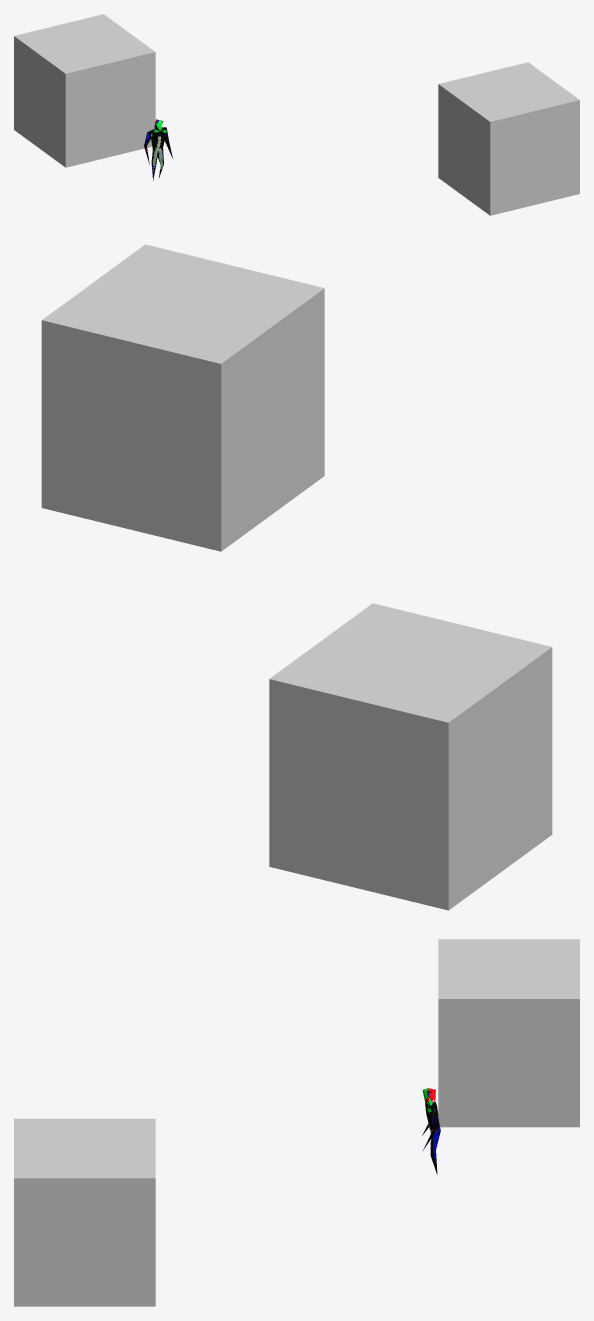
File: bigshitter.gltf
3 renders of one model, top to bottom at view 1: azimuth 30°, elevation 25°; view 2: azimuth 150°, elevation 25°; view 3: azimuth 270°, elevation 25°, orthographic. The views are drawn at different scales.
Parts seen in each view (by area): view 1: Cube.001, Cube, unit; view 2: Cube, Cube.001; view 3: Cube.001, Cube, unit.
Boxes of the visible parts, x1,y1,x2,y2 form: Cube.001: (438,62,579,215); Cube: (14,14,155,167); unit: (144,119,172,180); Cube: (269,603,552,910); Cube.001: (41,244,324,551); Cube.001: (14,1118,155,1306); Cube: (438,939,579,1127); unit: (422,1088,440,1174).
Bounding box in the file's own units: 8 × 2.72 × 8.
1 material, 1 textured.
